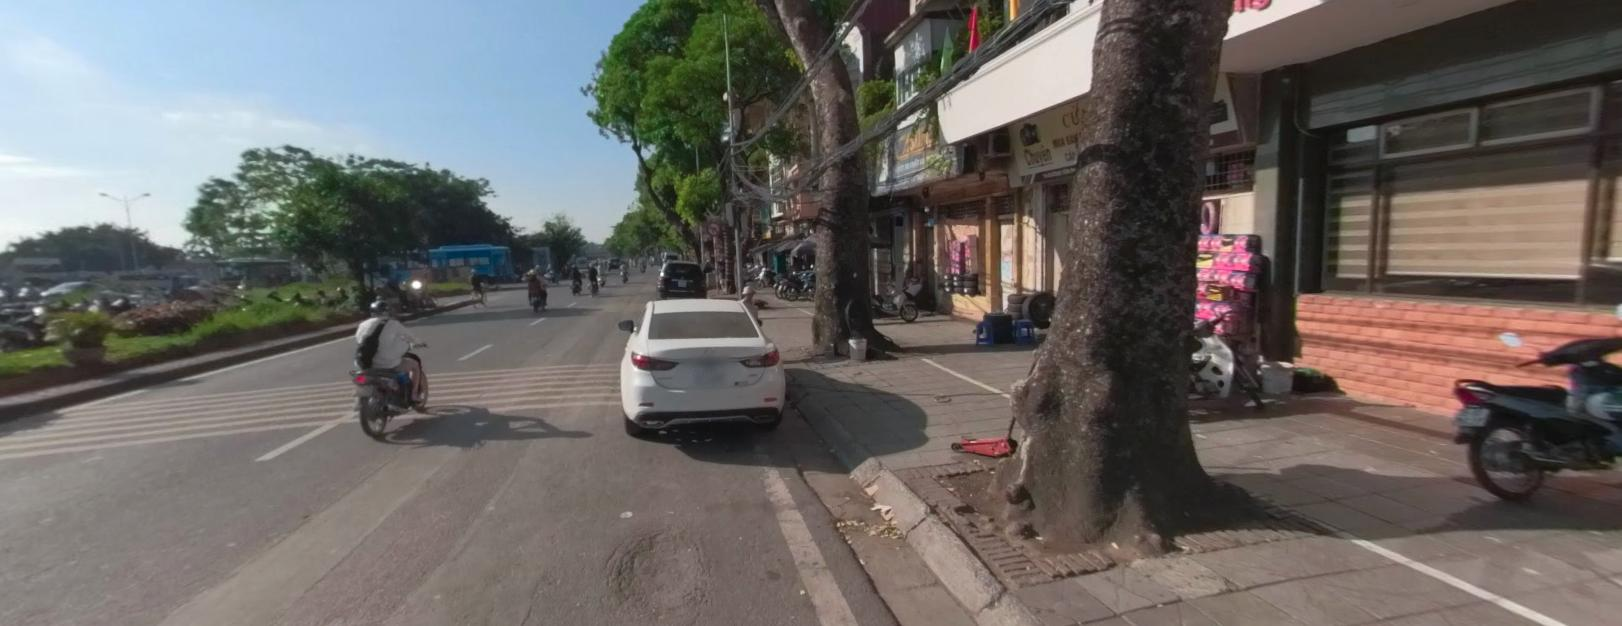Cam re: (705, 221, 721, 235)
